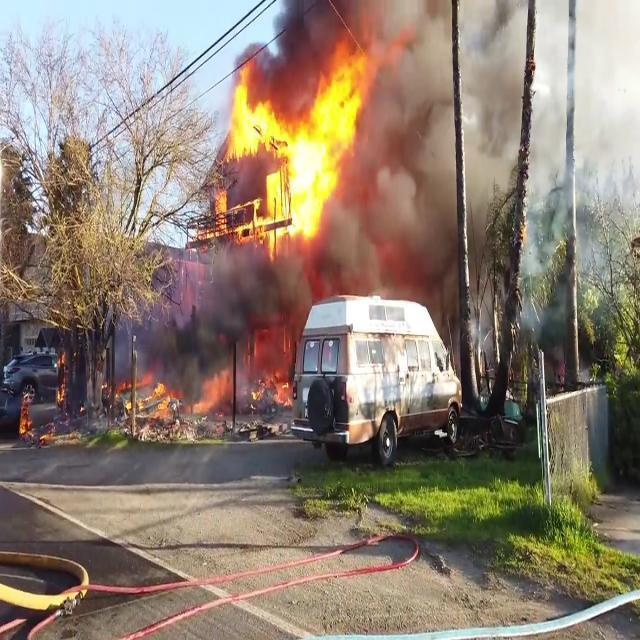Fire: (226, 38, 362, 262)
